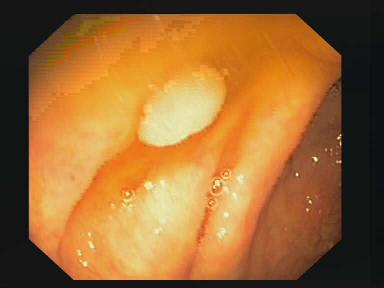polyp: (119, 58, 259, 157)
